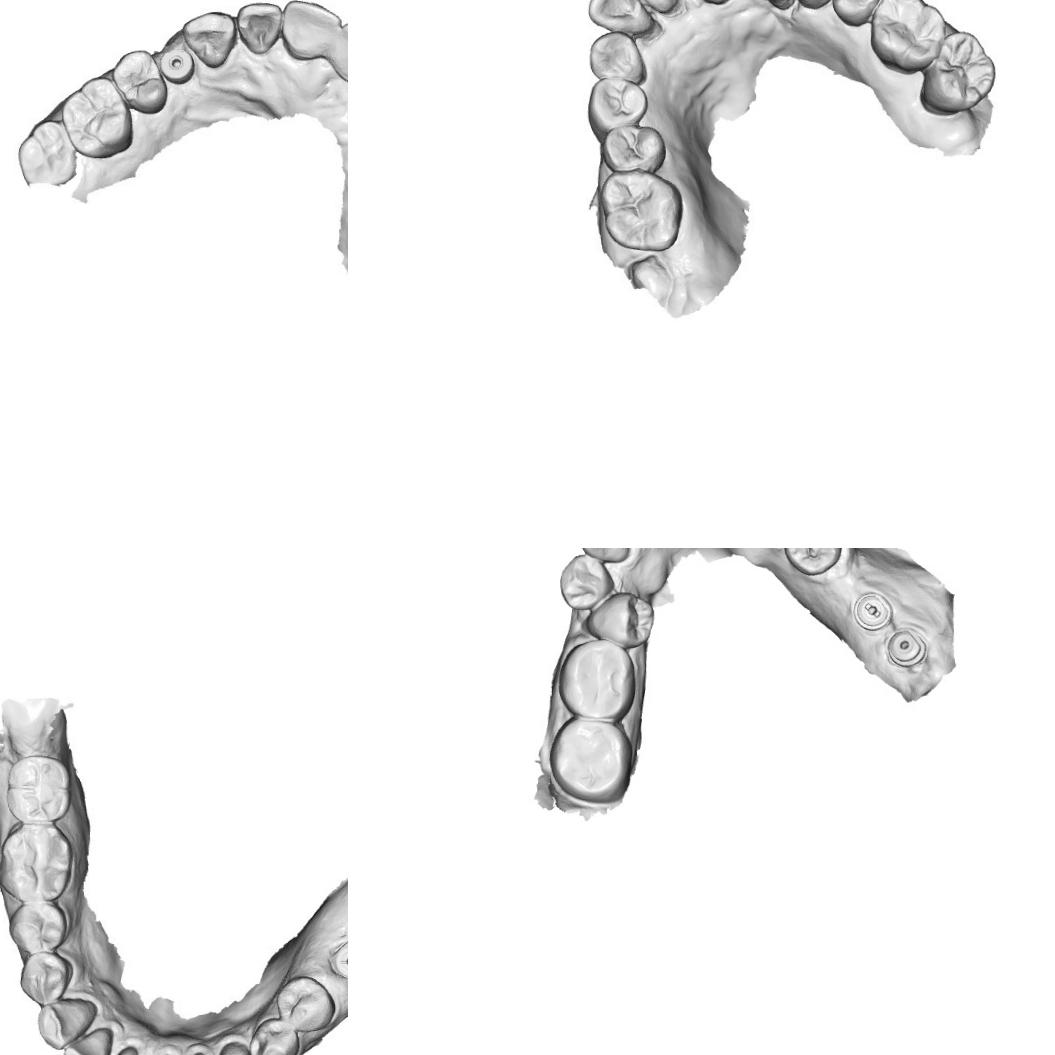canine: (588, 30, 648, 87), (181, 8, 236, 70), (35, 995, 94, 1050), (578, 548, 632, 563), (213, 1038, 260, 1055)
implant: (884, 624, 928, 668), (161, 48, 196, 84)
implant_minus: (852, 592, 892, 632)
implant_plus: (326, 939, 348, 981)
incisor: (277, 0, 343, 61), (584, 0, 660, 38), (235, 1, 282, 56), (62, 1024, 117, 1055), (326, 18, 348, 81), (97, 1043, 145, 1055)
molar: (912, 28, 1002, 118), (546, 716, 634, 802), (596, 170, 686, 254), (554, 637, 638, 724), (58, 74, 134, 158), (864, 0, 945, 78), (0, 822, 73, 899), (12, 118, 78, 188), (5, 756, 71, 820)
premolar: (580, 588, 657, 652), (110, 49, 168, 116), (584, 78, 650, 136), (557, 550, 616, 612), (598, 124, 667, 172), (18, 954, 79, 1008), (282, 977, 336, 1035), (15, 899, 66, 952), (250, 1016, 301, 1055), (780, 548, 842, 576), (826, 0, 886, 28)
